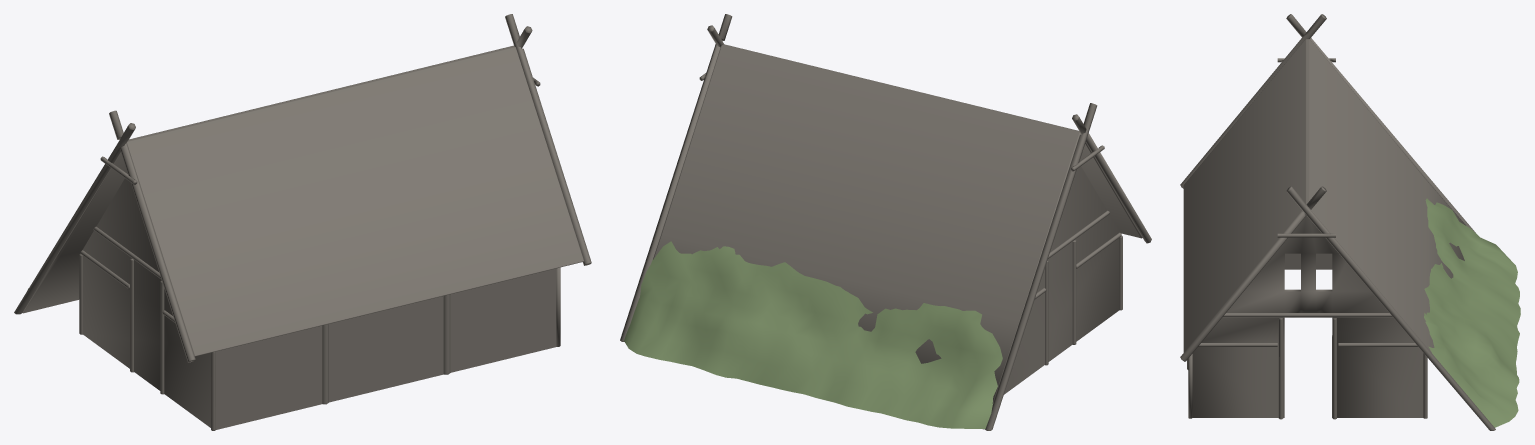
File: NewVikingHouse.fbx
The picture shows the model from 3 angles, left to right: view 1: azimuth 30°, elevation 25°; view 2: azimuth 150°, elevation 25°; view 3: azimuth 270°, elevation 25°; orthographic projection. The views are drawn at different scales.
Parts seen in each view (by area): view 1: Ceiling, Walls, Supports; view 2: Ceiling, MossGrowth, Walls, Supports; view 3: Ceiling, Walls, MossGrowth, Supports.
Boxes of the visible parts, x1,y1,x2,y2 form: Ceiling: [22, 45, 584, 356]; Walls: [82, 173, 556, 429]; Supports: [14, 14, 591, 430]; Ceiling: [653, 44, 1142, 429]; MossGrowth: [624, 241, 1002, 428]; Walls: [1004, 166, 1120, 394]; Supports: [620, 14, 1151, 430]; Ceiling: [1183, 39, 1465, 352]; Walls: [1192, 216, 1423, 417]; MossGrowth: [1424, 198, 1520, 427]; Supports: [1180, 14, 1495, 430].
Bounding box in the file's own units: 710 × 454 × 577.
